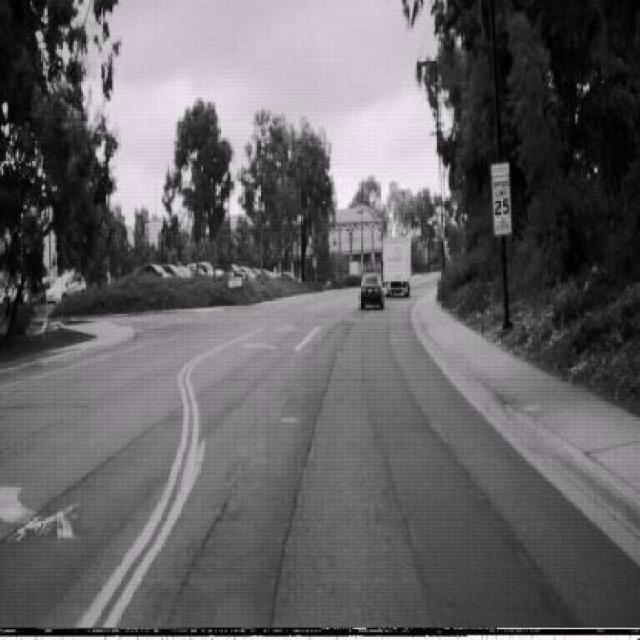schoolSpeedLimit25: (491, 162, 512, 236)
